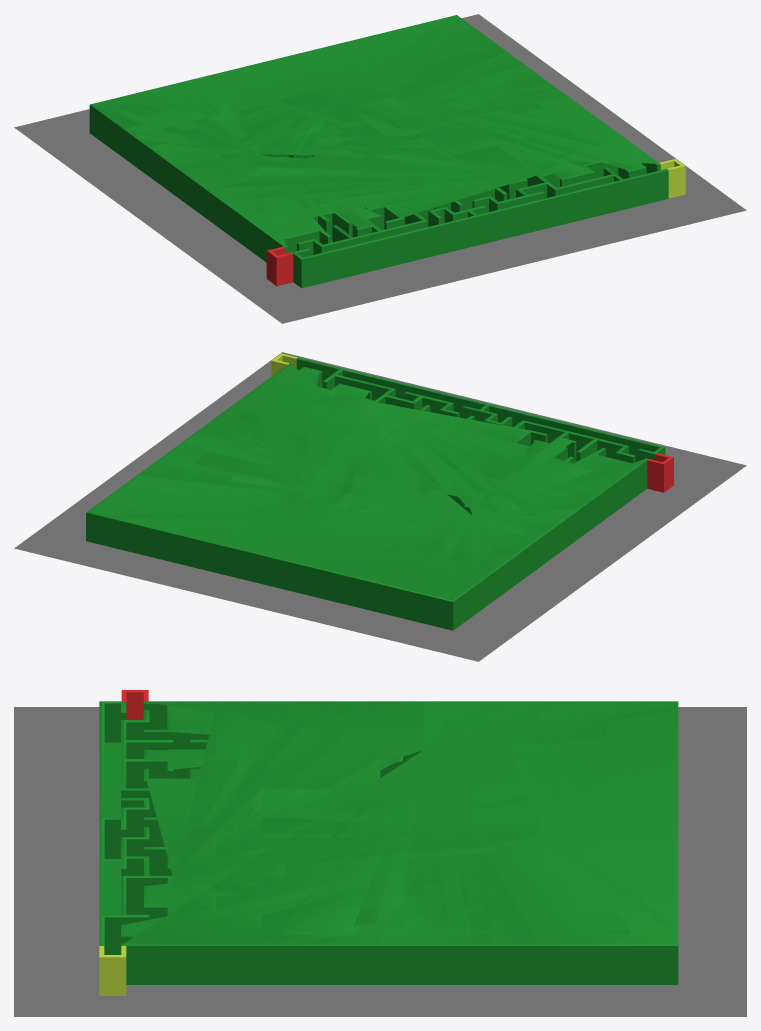
Rendered from mazelevel3.fbx.
3 views of the same model, one above another, from view 1: azimuth 30°, elevation 25°; view 2: azimuth 150°, elevation 25°; view 3: azimuth 270°, elevation 25° (orthographic). The views are drawn at different scales.
Parts seen in each view (by area): view 1: Plane, Plane.001, Cube.002, Cube.001; view 2: Plane, Plane.001, Cube.002; view 3: Plane, Plane.001, Cube.001, Cube.002.
Part boxes in pixels (left/top/right/bottom): Plane: left=89, top=15, right=668, bottom=288; Plane.001: left=14, top=14, right=746, bottom=323; Cube.002: left=266, top=246, right=293, bottom=286; Cube.001: left=659, top=159, right=685, bottom=198; Plane: left=86, top=357, right=665, bottom=630; Plane.001: left=14, top=352, right=746, bottom=661; Cube.002: left=647, top=453, right=673, bottom=492; Plane: left=99, top=701, right=678, bottom=984; Plane.001: left=14, top=707, right=746, bottom=1016; Cube.001: left=99, top=946, right=126, bottom=995; Cube.002: left=121, top=690, right=148, bottom=719.
Size of the model in its own units: 3642 by 287 by 3642.
